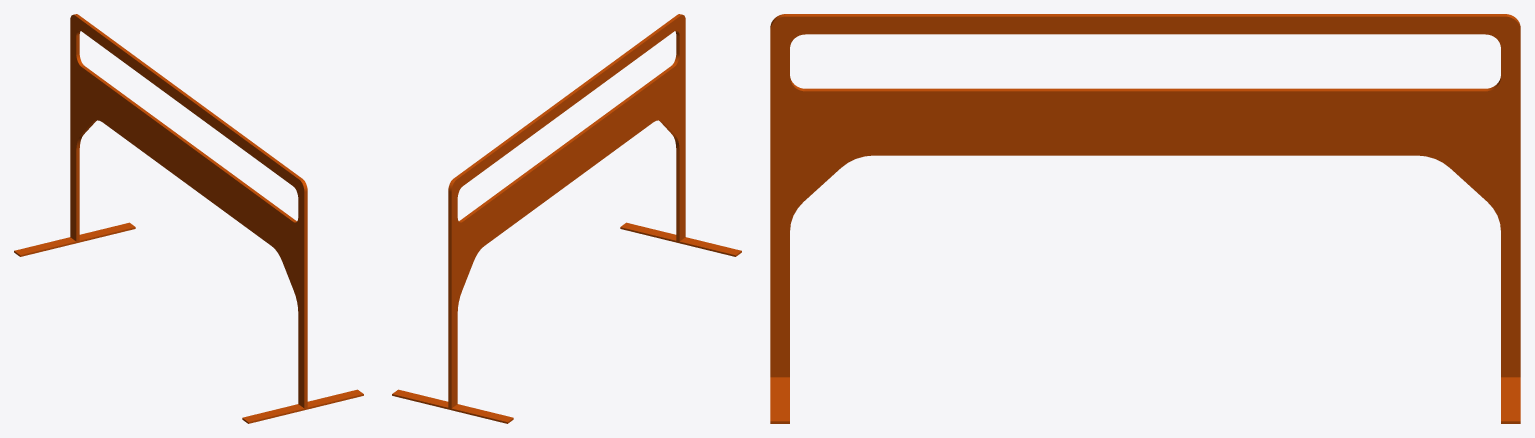
The model's file is 0006_hardfence.glb.
The picture shows the model from 3 angles, left to right: view 1: azimuth 30°, elevation 25°; view 2: azimuth 150°, elevation 25°; view 3: azimuth 270°, elevation 25°; orthographic projection. The views are drawn at different scales.
Parts seen in each view (by area): view 1: Body1; view 2: Body1; view 3: Body1.
Boxes of the visible parts, bbox=[...] form: Body1: bbox=[14, 14, 363, 423]; Body1: bbox=[392, 14, 741, 423]; Body1: bbox=[770, 14, 1520, 423].
Bounding box in the file's own units: 4.65 × 8.73 × 16.34.
